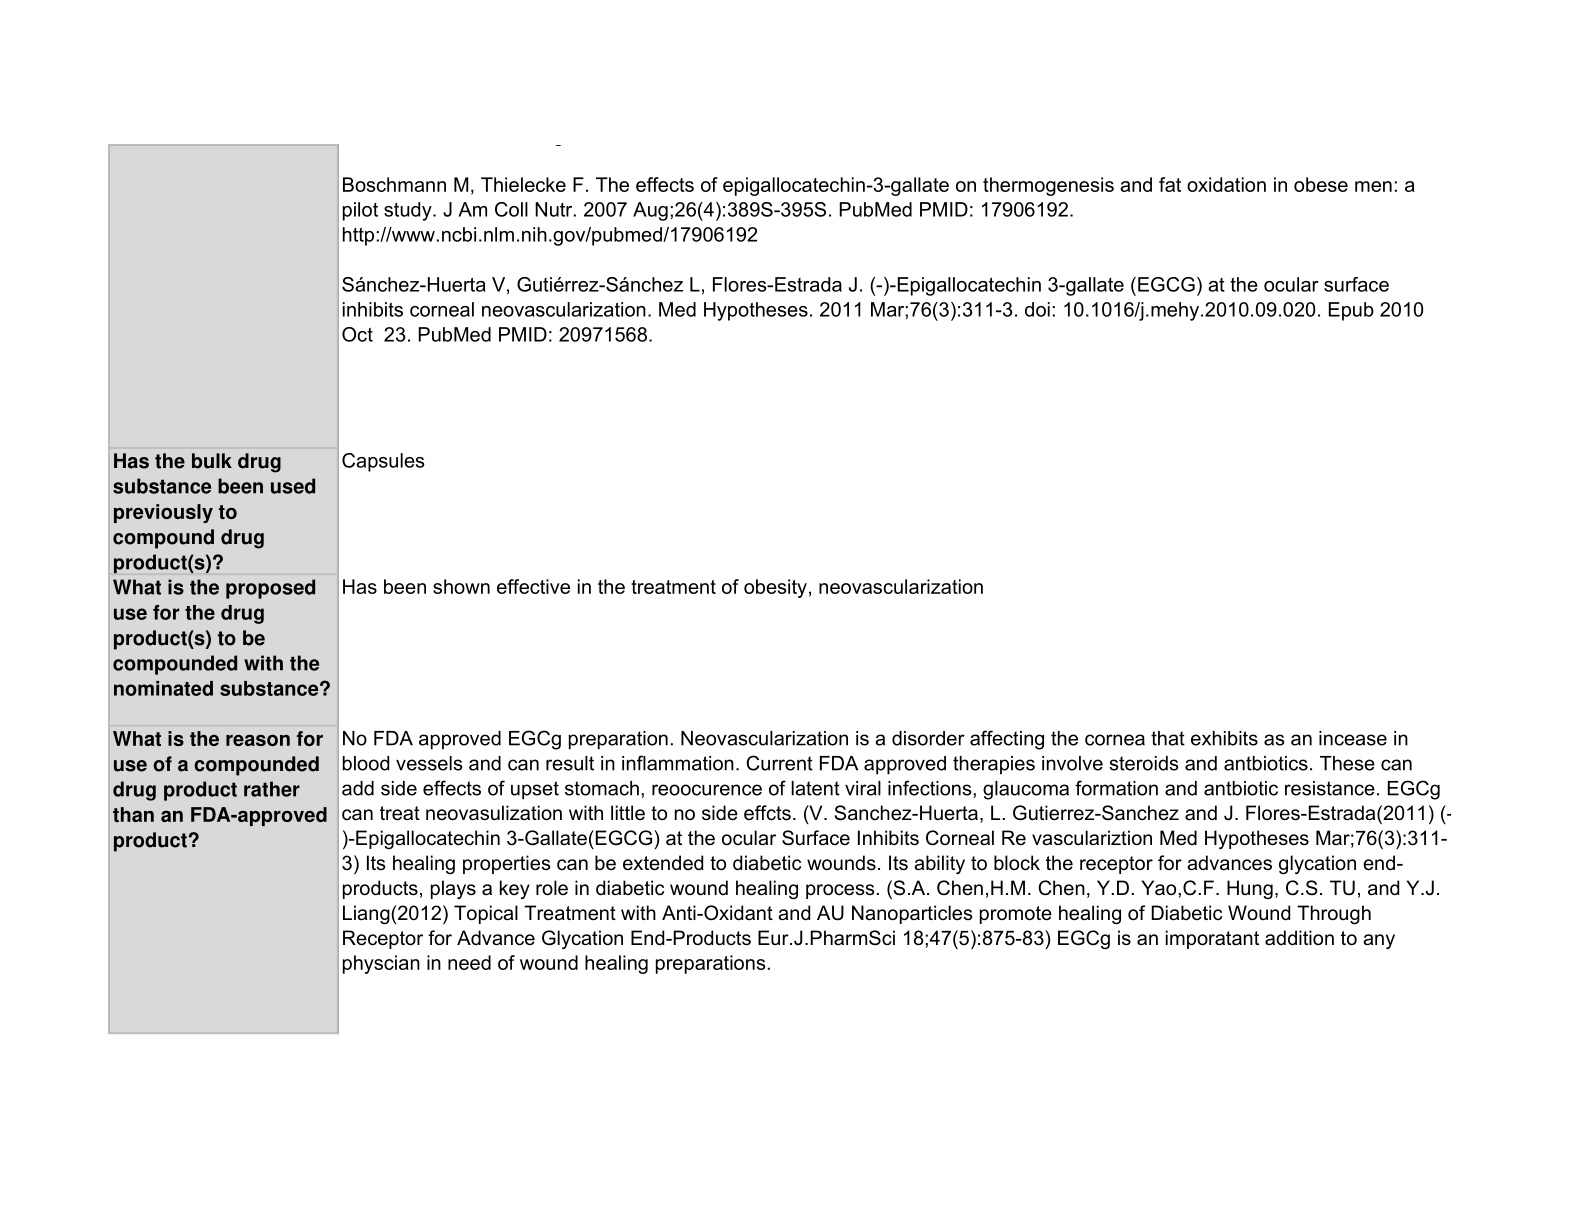partial_lined: (107, 143, 1500, 1039)
